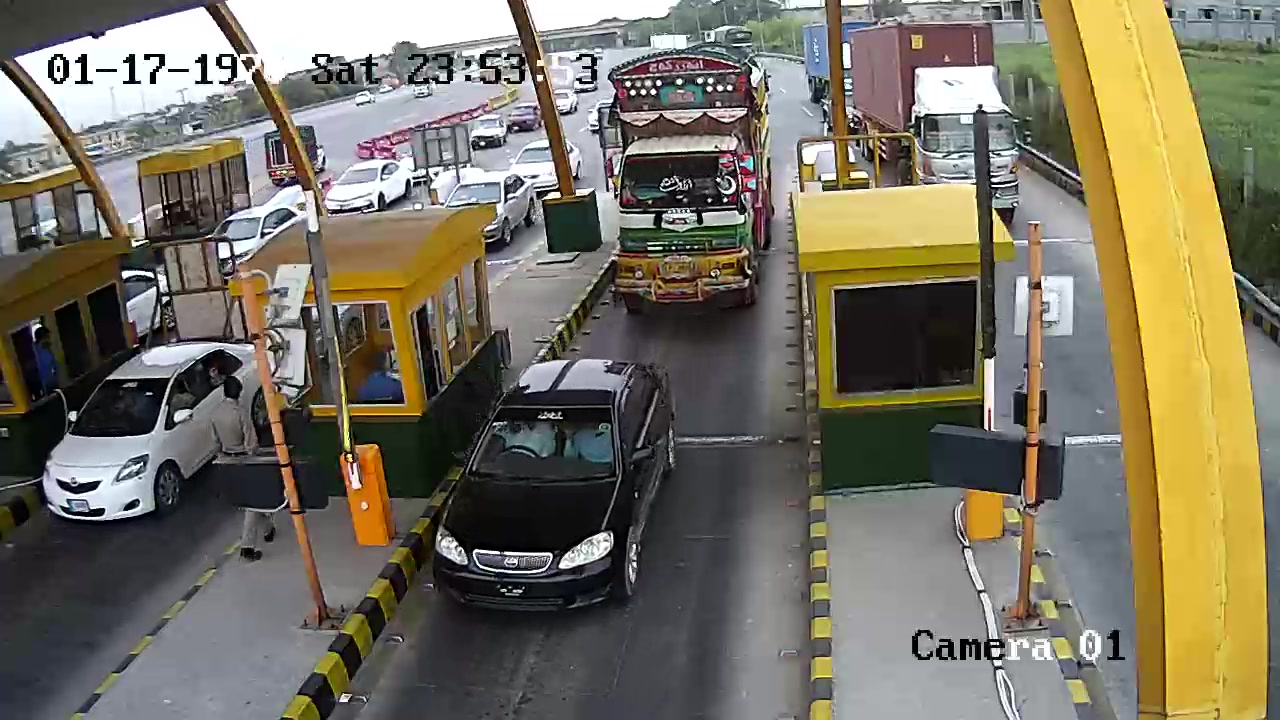F1: (428, 351, 691, 620)
